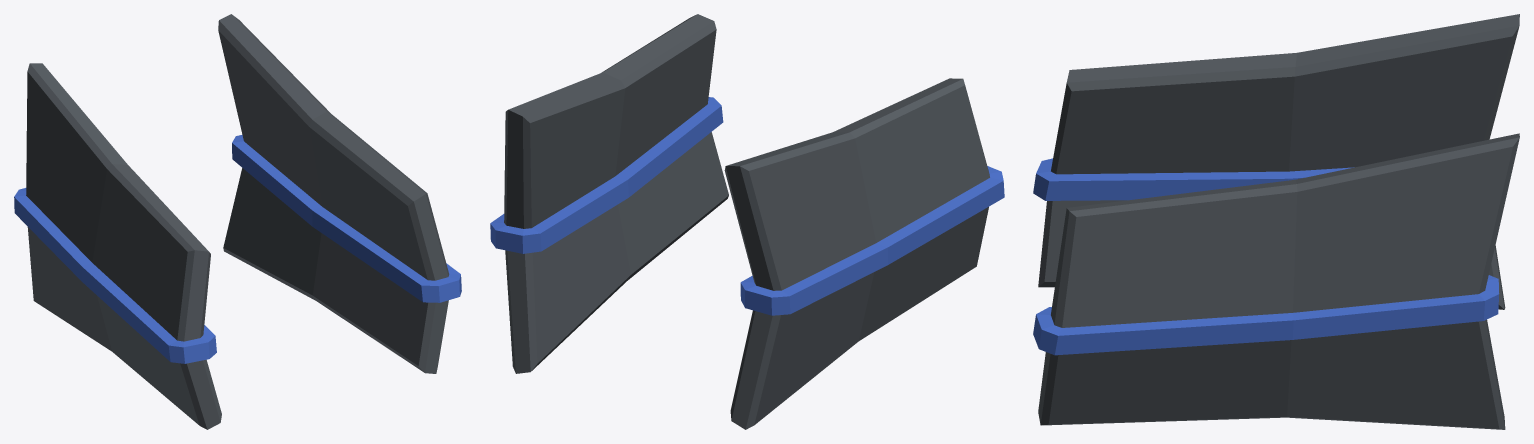
The model's file is Personal_Vehicle_04_Thruster_Frame_Blue.fbx.
3 views of the same model, side by side, from view 1: azimuth 30°, elevation 25°; view 2: azimuth 150°, elevation 25°; view 3: azimuth 270°, elevation 25° (orthographic). The views are drawn at different scales.
Parts seen in each view (by area): view 1: Personal_Vehicle_04_Thruster_Frame_Blue; view 2: Personal_Vehicle_04_Thruster_Frame_Blue; view 3: Personal_Vehicle_04_Thruster_Frame_Blue.
Part boxes in pixels (x1,y1,x2,y2): Personal_Vehicle_04_Thruster_Frame_Blue: [14, 14, 461, 429]; Personal_Vehicle_04_Thruster_Frame_Blue: [490, 14, 1004, 429]; Personal_Vehicle_04_Thruster_Frame_Blue: [1033, 14, 1519, 429].
Size of the model in its own units: 82.68 by 63.25 by 95.16.
Materials: 1 (1 with a texture image).
